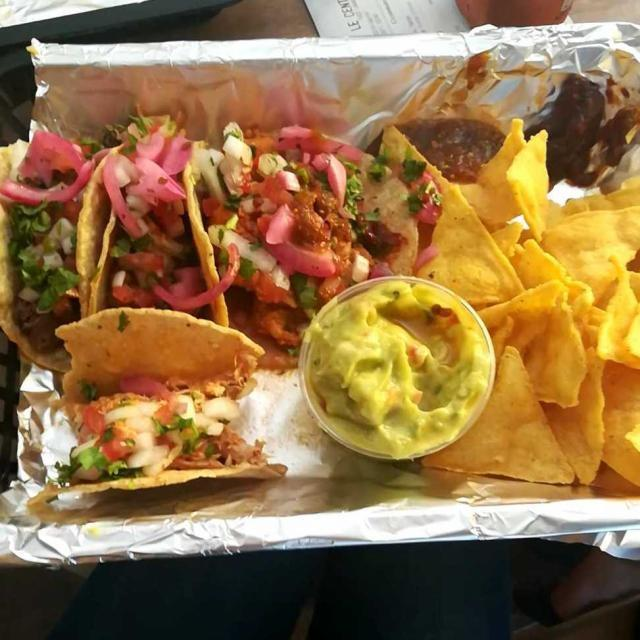corn-crisps: (439, 125, 630, 480)
guacamole: (294, 277, 497, 464)
